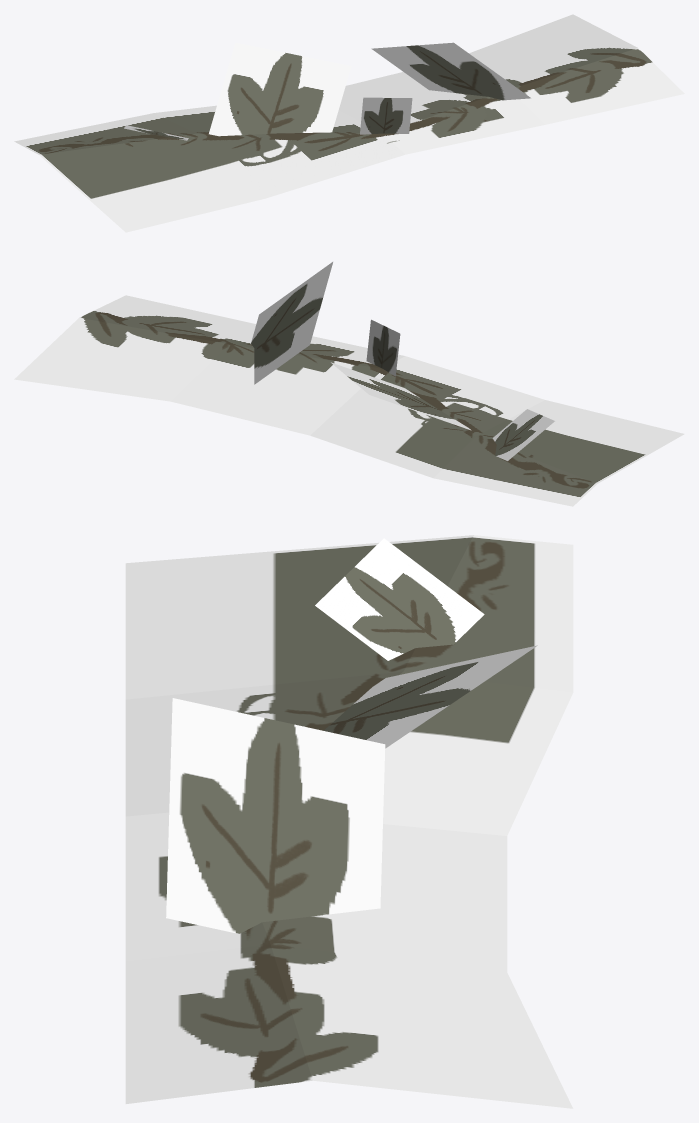
Rendered from Vine3.fbx.
3 renders of one model, top to bottom at view 1: azimuth 30°, elevation 25°; view 2: azimuth 150°, elevation 25°; view 3: azimuth 270°, elevation 25°, orthographic. The views are drawn at different scales.
Visible parts, largest first — view 1: Vines.024; view 2: Vines.024; view 3: Vines.024.
Boxes of the visible parts, x1,y1,x2,y2 form: Vines.024: (14, 14, 684, 232); Vines.024: (14, 262, 684, 506); Vines.024: (125, 535, 573, 1108).
Size of the model in its own units: 512 by 96.81 by 177.
1 material, 1 textured.
